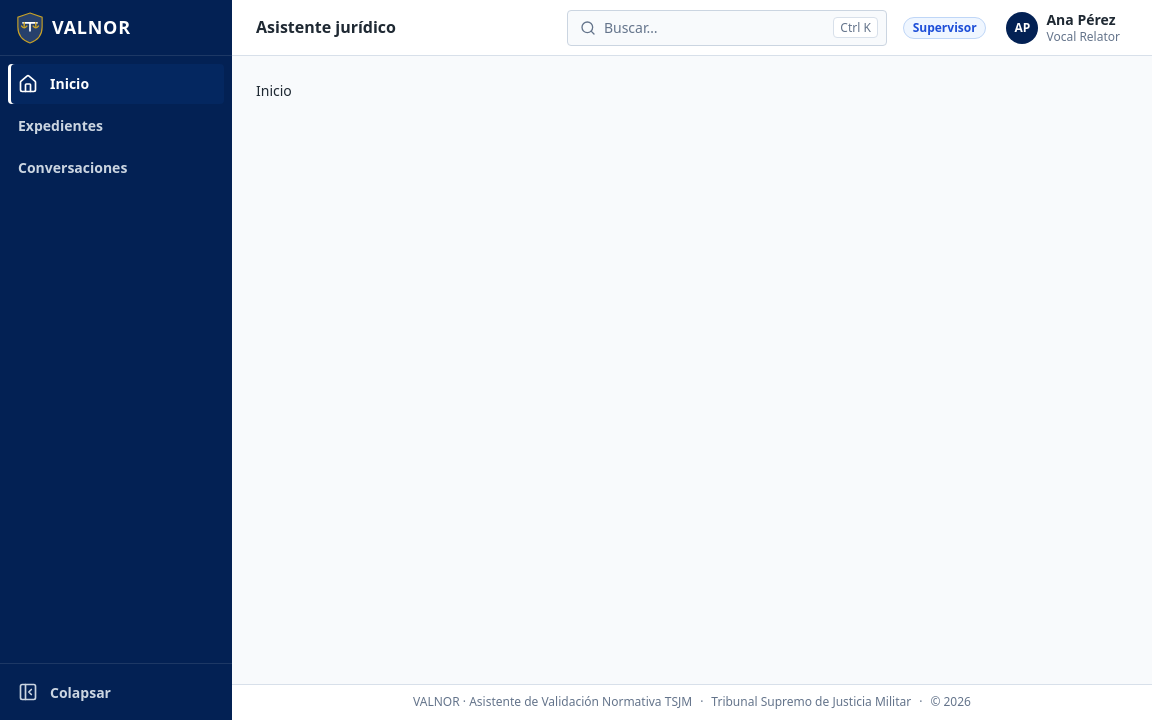
Test: AppShell TopBar › el menú de usuario muestra nombre y cargo, y el rol va en un badge
Expected: the element titled "Rol: Supervisor" is shown, [913,19,977,36]
Click the button with aria-label "Cuenta de Ana Pérez".
click(1065, 28)  # box [1002,7,1128,48]
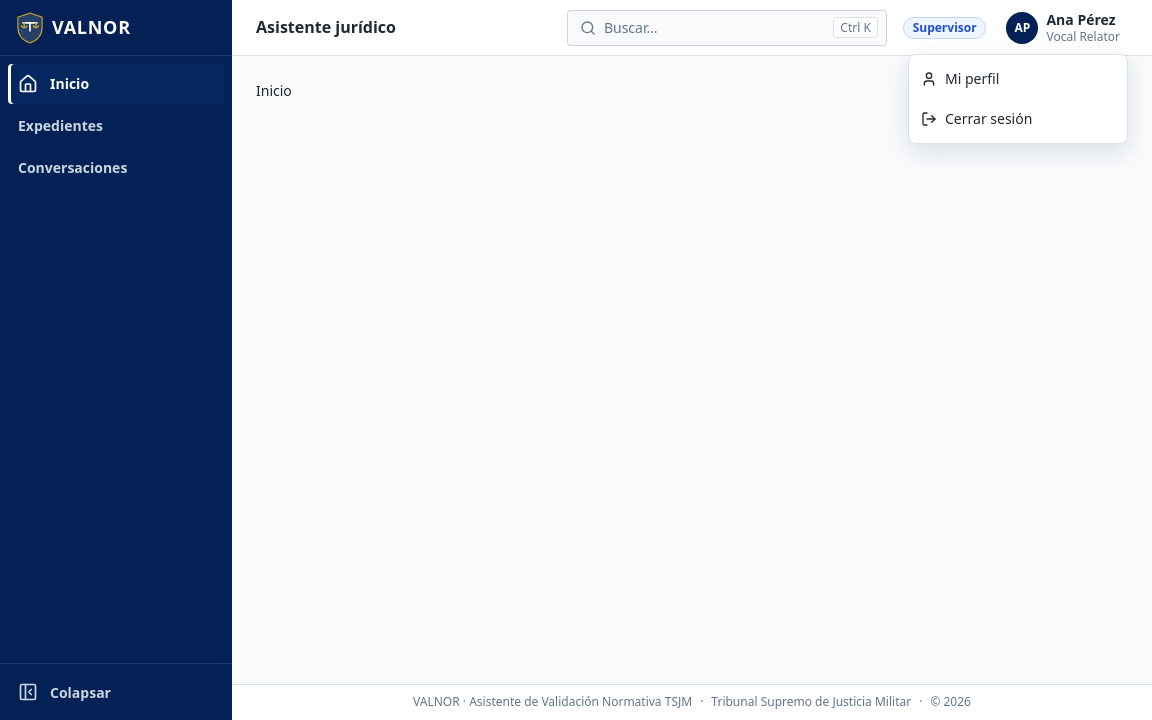
Now the menu item "Cerrar sesión" is shown, box [913,99,1123,139]
Press Escape
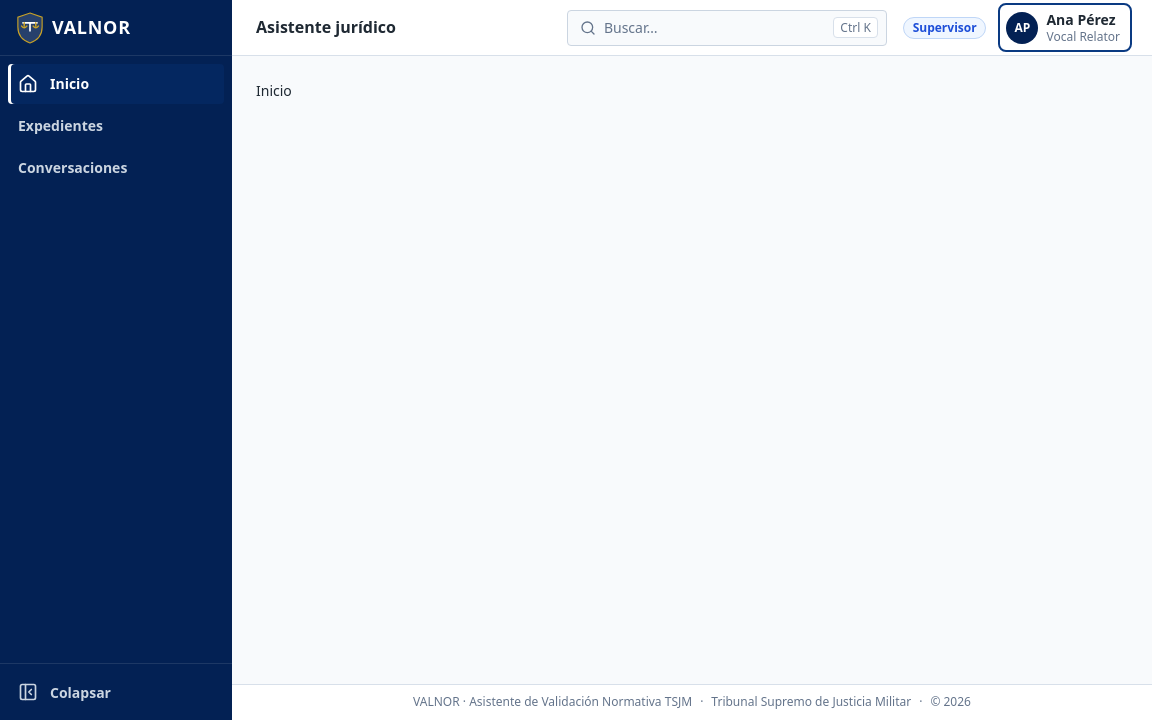
Now the menu is gone
